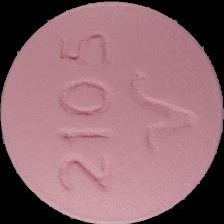43063-193: (0, 0, 224, 224)
